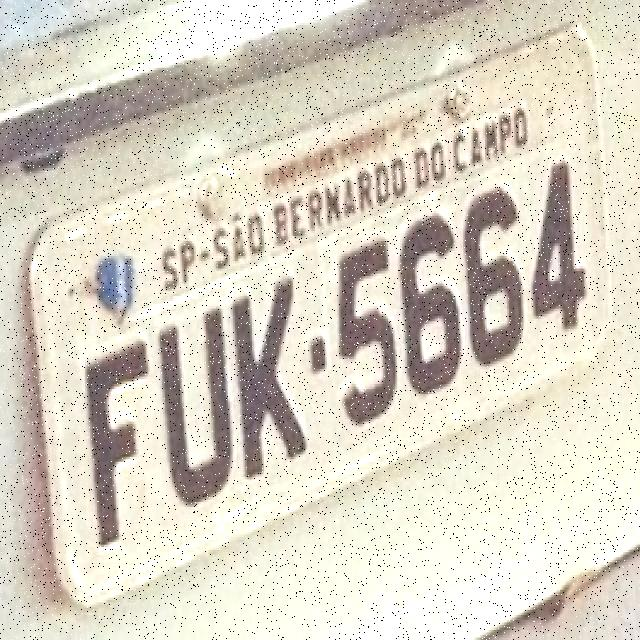licenseplate: (19, 18, 632, 620)
